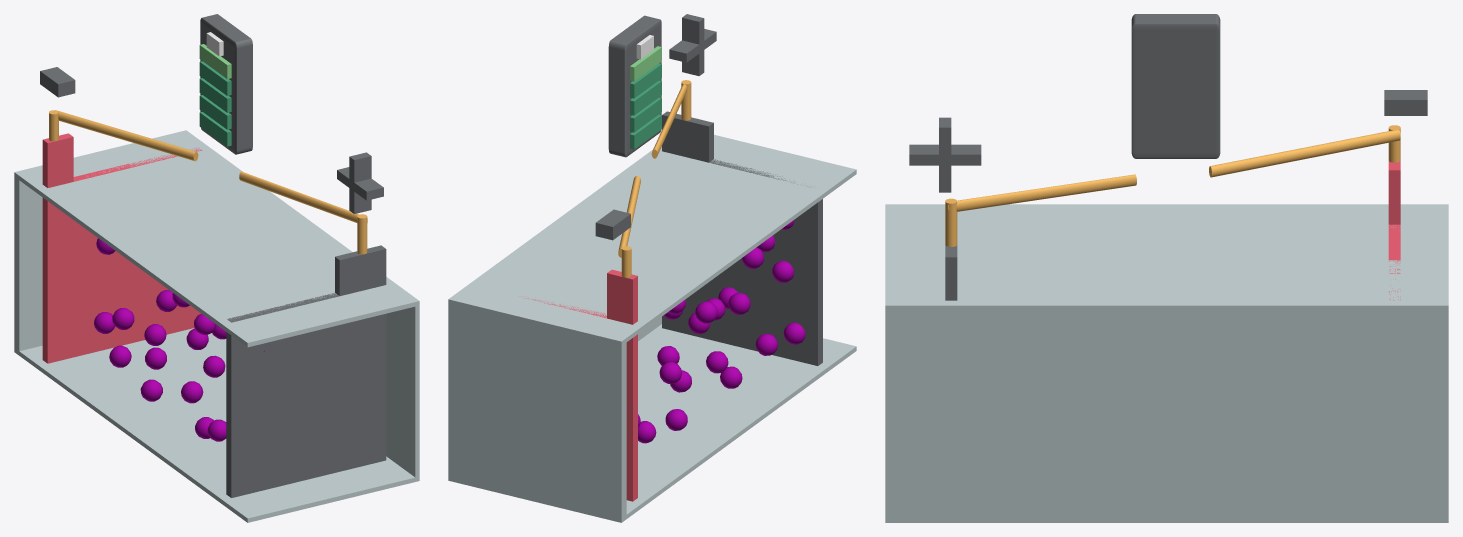
File: Lib_charge.glb
3 views of the same model, side by side, from view 1: azimuth 30°, elevation 25°; view 2: azimuth 150°, elevation 25°; view 3: azimuth 270°, elevation 25° (orthographic). The views are drawn at different scales.
Parts seen in each view (by area): view 1: obj_9, Li_ion1.026; view 2: obj_9, Li_ion1.026; view 3: obj_9.
Boxes of the visible parts, x1,y1,x2,y2 form: obj_9: [14, 14, 419, 522]; Li_ion1.026: [112, 293, 226, 441]; obj_9: [448, 14, 856, 522]; Li_ion1.026: [657, 247, 777, 430]; obj_9: [885, 14, 1448, 522].
Bounding box in the file's own units: 4 × 8.5 × 9.4.
